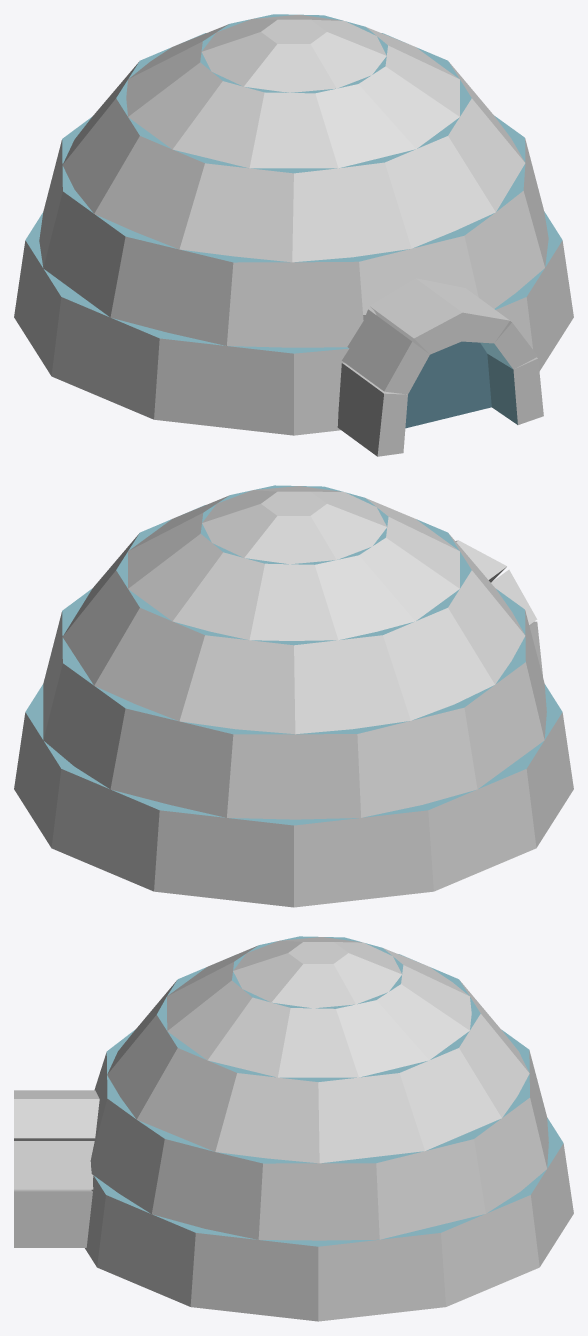
File: igloo_01.fbx
3 views of the same model, one above another, from view 1: azimuth 30°, elevation 25°; view 2: azimuth 150°, elevation 25°; view 3: azimuth 270°, elevation 25° (orthographic). The views are drawn at different scales.
Parts seen in each view (by area): view 1: igloo_01; view 2: igloo_01; view 3: igloo_01.
Part boxes in pixels (x1,y1,x2,y2): igloo_01: (14, 14, 573, 456); igloo_01: (14, 485, 573, 907); igloo_01: (14, 936, 573, 1321).
Bounding box in the file's own units: 400 × 226 × 438.
